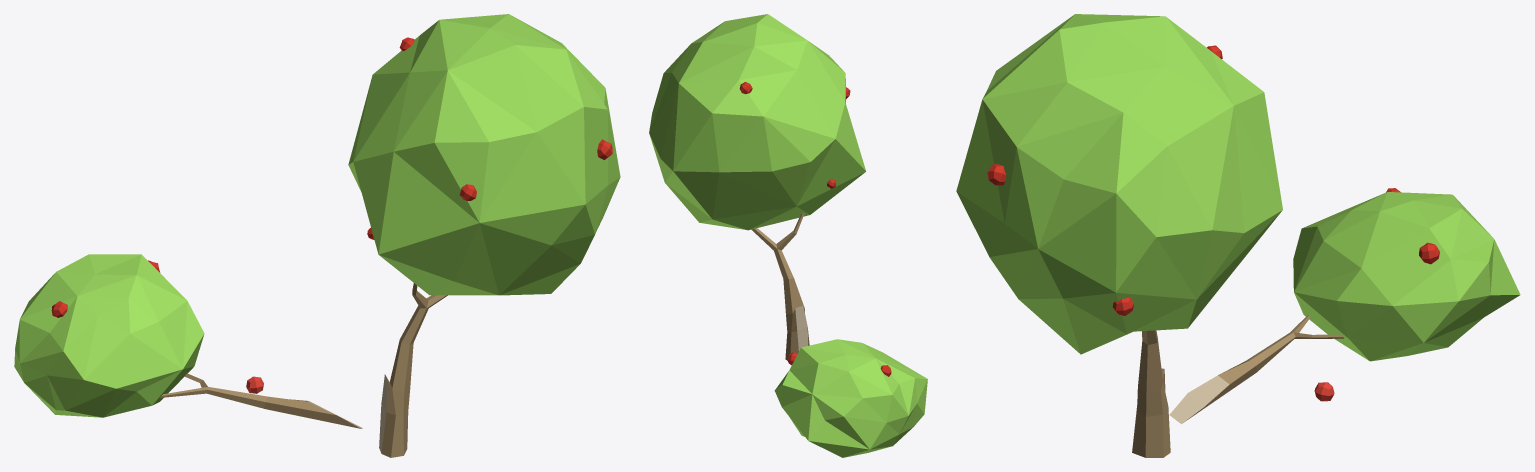
File: Apple_Tree_Apples_crk_m_03_LOD.fbx
3 renders of one model, left to right at view 1: azimuth 30°, elevation 25°; view 2: azimuth 150°, elevation 25°; view 3: azimuth 270°, elevation 25°, orthographic. The views are drawn at different scales.
Visible parts, largest first — view 1: Apple_Tree_Apples_crk_m_03_LOD0; view 2: Apple_Tree_Apples_crk_m_03_LOD0; view 3: Apple_Tree_Apples_crk_m_03_LOD0.
Part boxes in pixels (box(x1,y1,x2,y2)): Apple_Tree_Apples_crk_m_03_LOD0: box(14, 14, 620, 457); Apple_Tree_Apples_crk_m_03_LOD0: box(649, 14, 927, 457); Apple_Tree_Apples_crk_m_03_LOD0: box(956, 14, 1520, 457).
Size of what is drawn, in the model's own units: 827 by 721 by 784.
